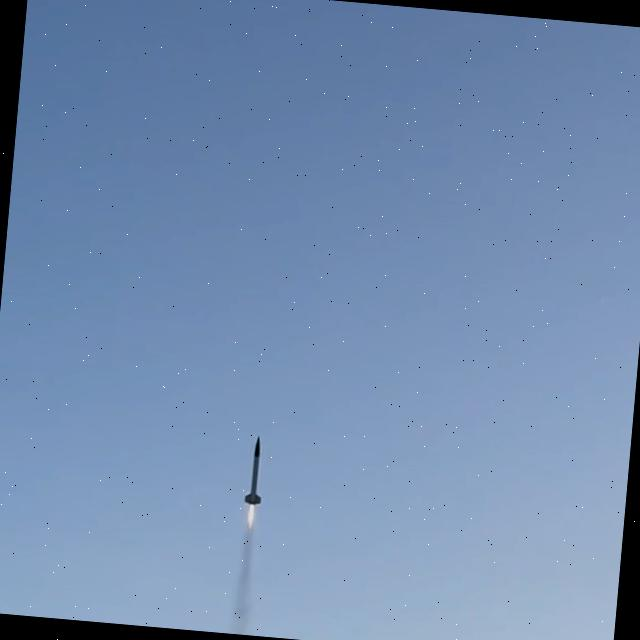smoke_trail_with_rocket: (230, 437, 260, 635)
